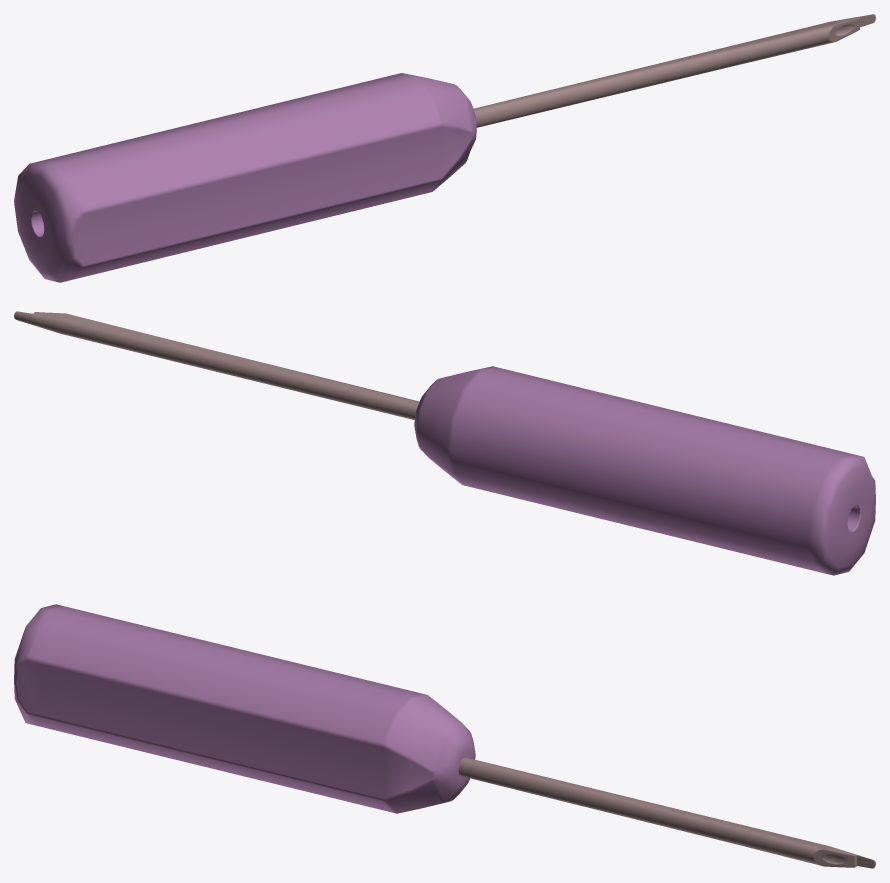
Rendered from TransportalDevice.fbx.
3 renders of one model, top to bottom at view 1: azimuth 30°, elevation 25°; view 2: azimuth 150°, elevation 25°; view 3: azimuth 330°, elevation 25°, orthographic.
Parts seen in each view (by area): view 1: Tools_TransportalGuide_01:Tool_TransportalGuide02_01; view 2: Tools_TransportalGuide_01:Tool_TransportalGuide02_01; view 3: Tools_TransportalGuide_01:Tool_TransportalGuide02_01.
Boxes of the visible parts, x1,y1,x2,y2 form: Tools_TransportalGuide_01:Tool_TransportalGuide02_01: (14,14,875,282); Tools_TransportalGuide_01:Tool_TransportalGuide02_01: (14,311,875,575); Tools_TransportalGuide_01:Tool_TransportalGuide02_01: (14,604,875,868).
Bounding box in the file's own units: 20.47 × 2.6 × 2.42.
